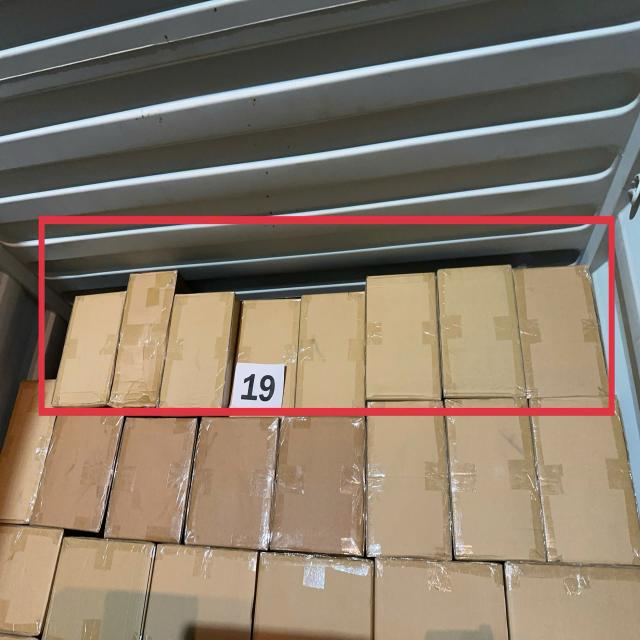Carton: (537, 399, 638, 571), (444, 393, 537, 560), (274, 407, 364, 558), (369, 414, 452, 562), (195, 411, 281, 550), (515, 268, 604, 402), (439, 266, 525, 402), (374, 553, 508, 636), (112, 419, 195, 546), (46, 534, 147, 638), (253, 553, 371, 640), (142, 543, 252, 636), (506, 559, 638, 636), (39, 399, 115, 532), (365, 275, 438, 405), (165, 292, 238, 411), (296, 293, 364, 409), (118, 273, 174, 409), (231, 298, 299, 409), (60, 295, 120, 407), (0, 522, 57, 636), (0, 382, 44, 527)
